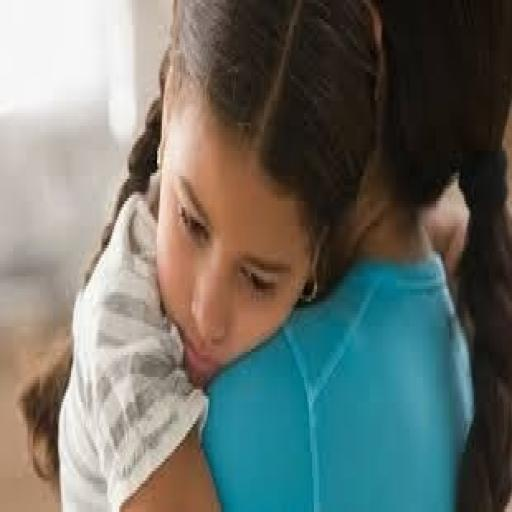hugging: (24, 0, 508, 509)
